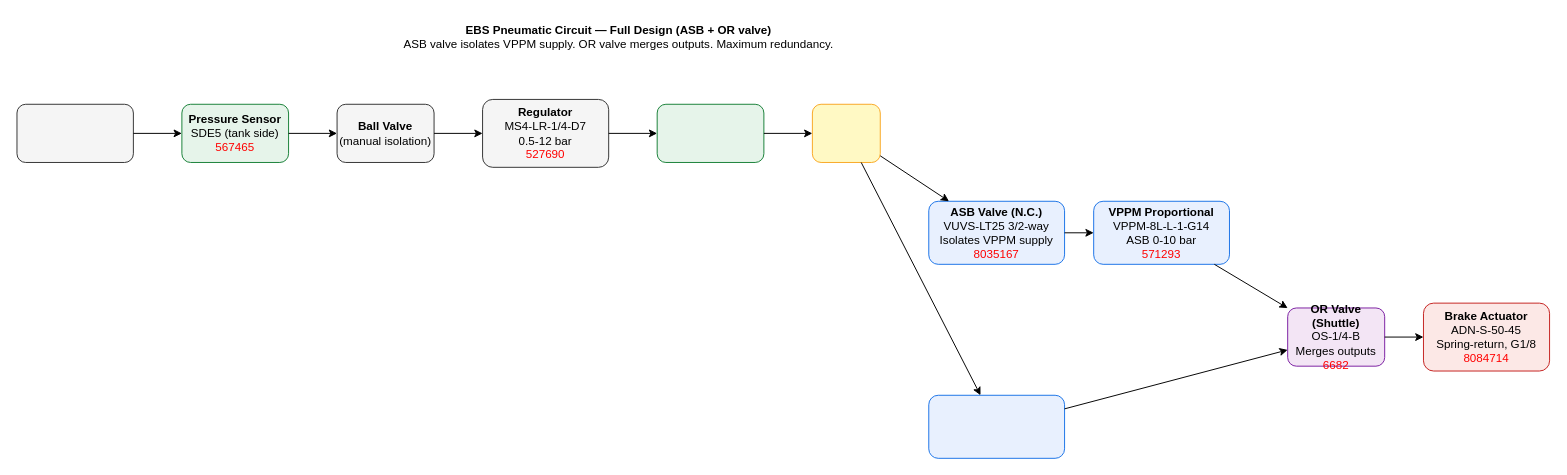
Image size: 1567x475. Some labels were removed from this diagram. The box of each missing label's shape, as (x1, y1, x2, y2) in pixels:
Compressor + Tank VEVOR 12V 6L, 90-120 psi: (16, 103, 133, 162)
EBS Solenoid (N.O.) VUVS-LT25 3/2-way Emergency Braking 8035174: (928, 394, 1065, 458)
NPFC-T 3×G1/4 8030236: (811, 103, 880, 162)
Pressure Sensor SDE5 (regulated) 567465: (656, 103, 764, 162)
